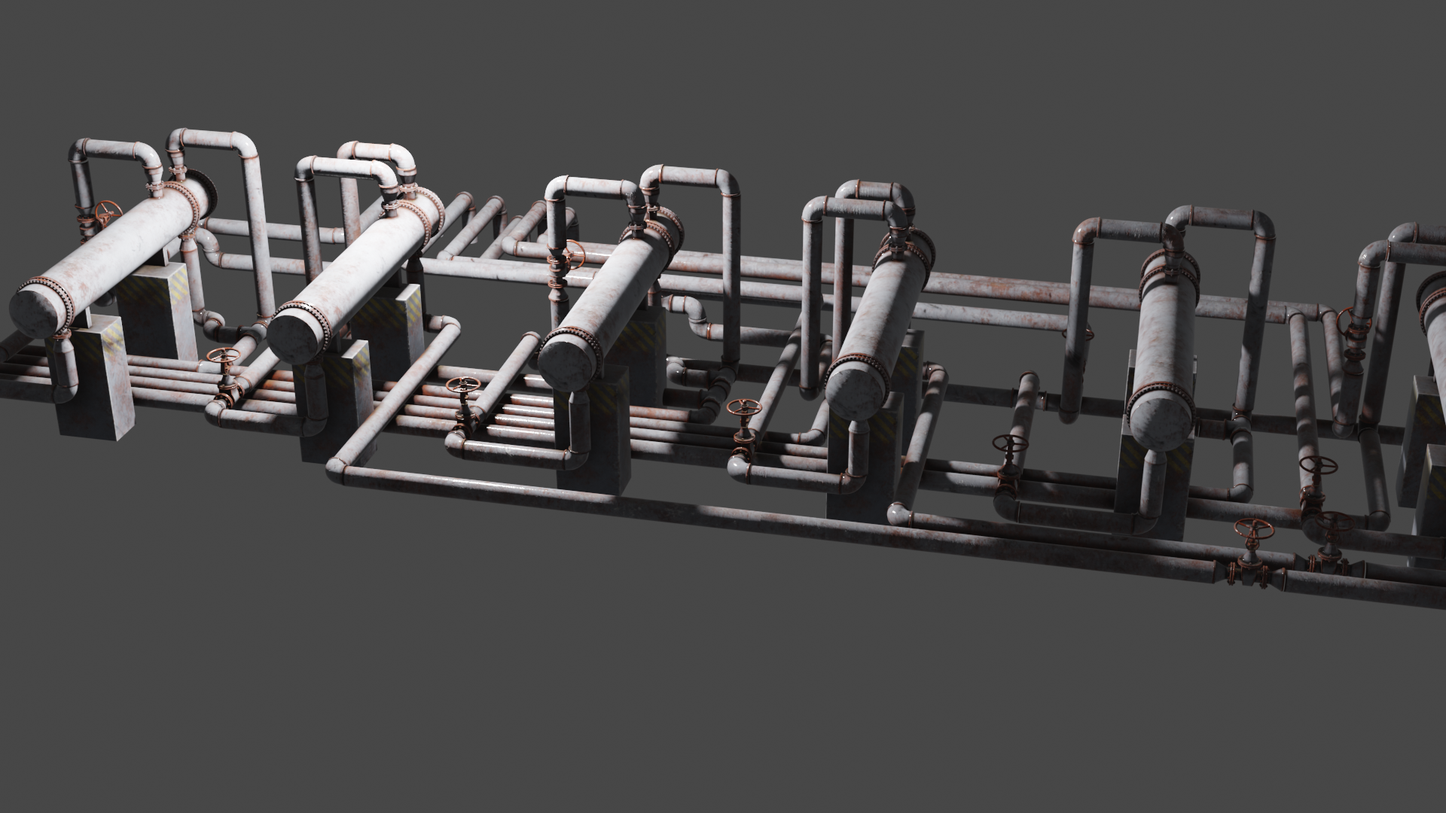HE_1: (1415, 270, 1446, 426)
HE_2: (1128, 247, 1204, 457)
HE_3: (818, 226, 937, 425)
HE_4: (529, 199, 687, 398)
HE_5: (259, 181, 448, 369)
HE_6: (6, 164, 217, 340)
